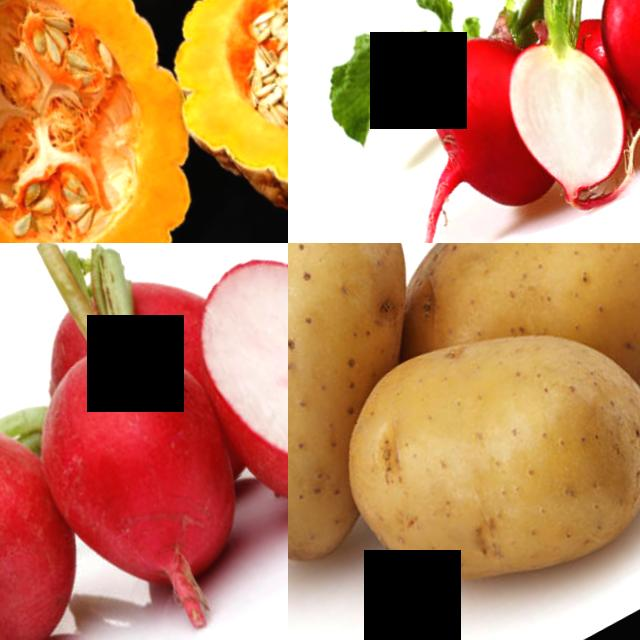potato: (314, 276, 640, 640), (288, 243, 450, 484), (536, 243, 640, 426)
pumpkin: (0, 0, 244, 243), (139, 0, 288, 243)
radishes: (0, 243, 288, 640), (362, 0, 640, 243)
